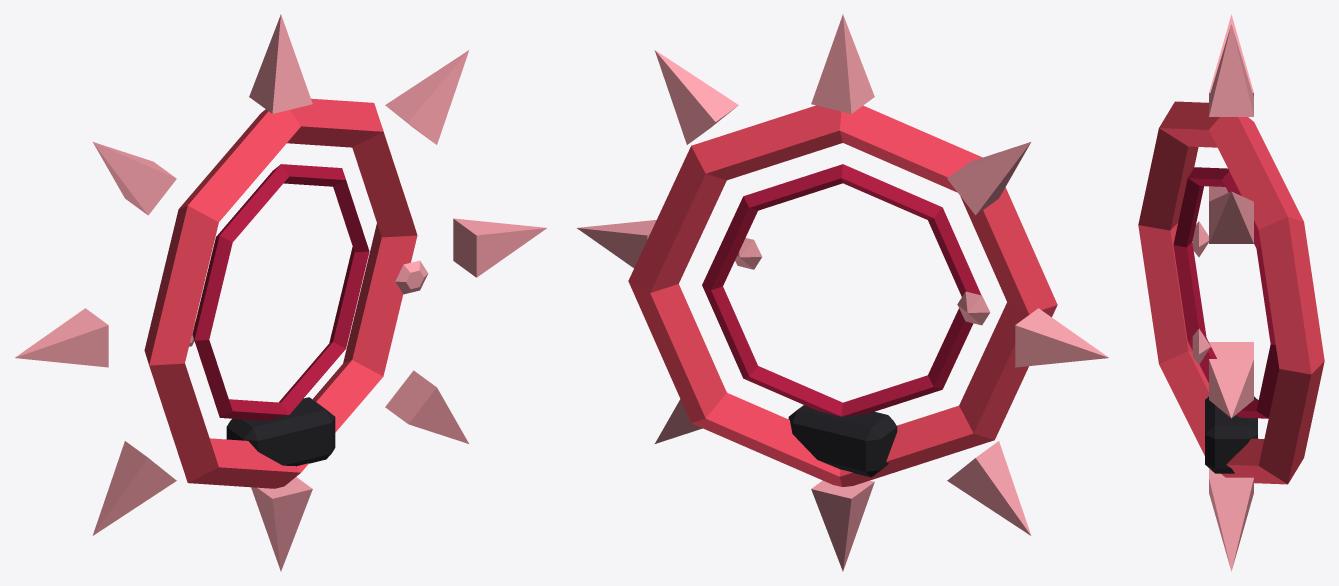
The model's file is RubyChakram.fbx.
The picture shows the model from 3 angles, left to right: view 1: azimuth 30°, elevation 25°; view 2: azimuth 150°, elevation 25°; view 3: azimuth 270°, elevation 25°; orthographic projection. The views are drawn at different scales.
Visible parts, largest first — view 1: RubyChakram; view 2: RubyChakram; view 3: RubyChakram.
Boxes of the visible parts, x1=… form: RubyChakram: x1=15, y1=14, x2=546, y2=571; RubyChakram: x1=577, y1=14, x2=1108, y2=571; RubyChakram: x1=1138, y1=14, x2=1324, y2=571.
Size of the model in its own units: 2.9 by 2.9 by 0.9106.
1 material, 1 textured.
